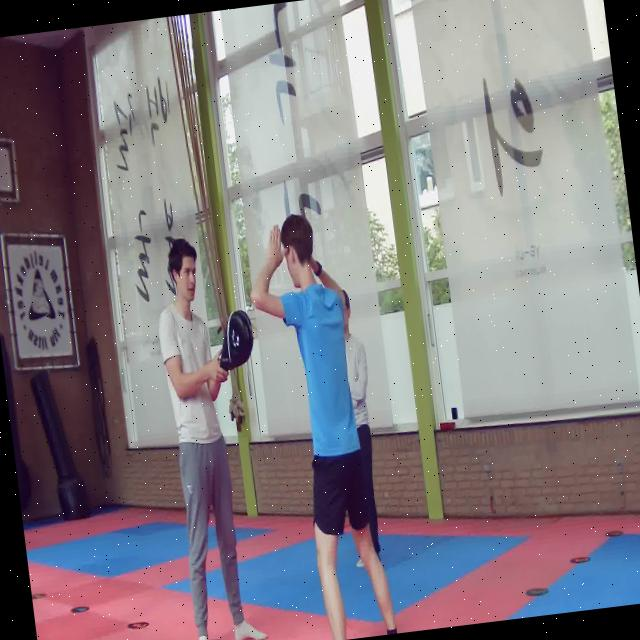paddle: (220, 309, 253, 370)
